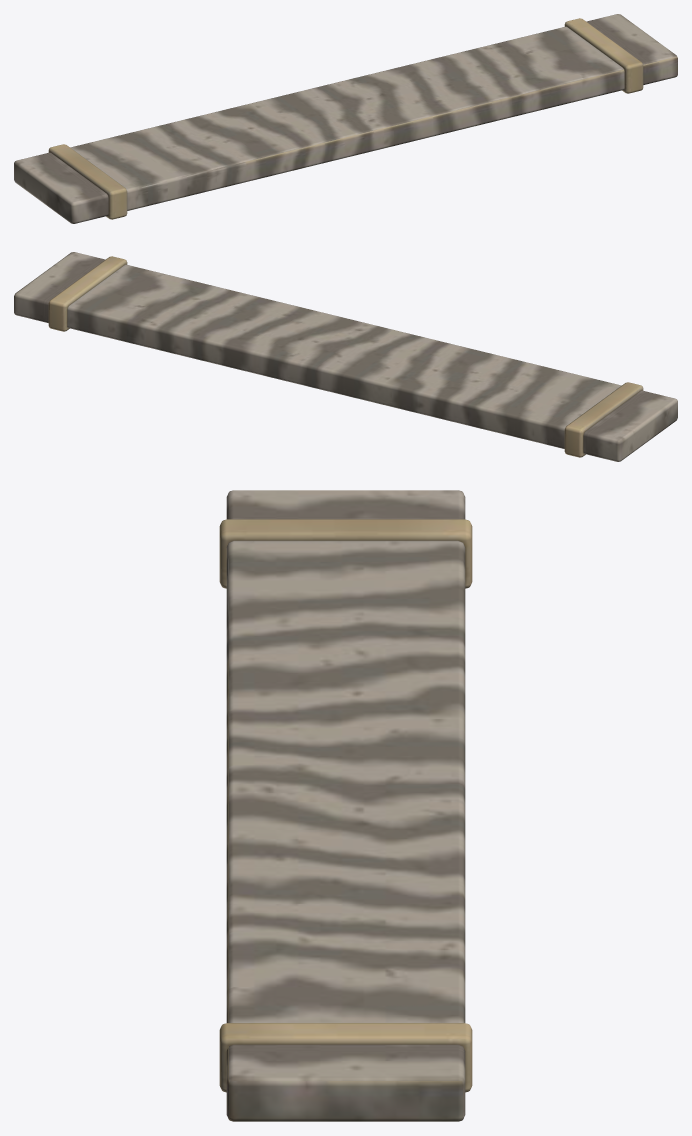
The model's file is bridge_plank.glb.
3 views of the same model, one above another, from view 1: azimuth 30°, elevation 25°; view 2: azimuth 150°, elevation 25°; view 3: azimuth 270°, elevation 25° (orthographic). The views are drawn at different scales.
Parts seen in each view (by area): view 1: BridgePlank; view 2: BridgePlank; view 3: BridgePlank.
Boxes of the visible parts, <box> form: BridgePlank: <box>14,14,677,223</box>; BridgePlank: <box>14,252,677,461</box>; BridgePlank: <box>219,490,472,1121</box>.
Size of the model in its own units: 2 by 0.09 by 0.36.
2 materials, 2 textured.
